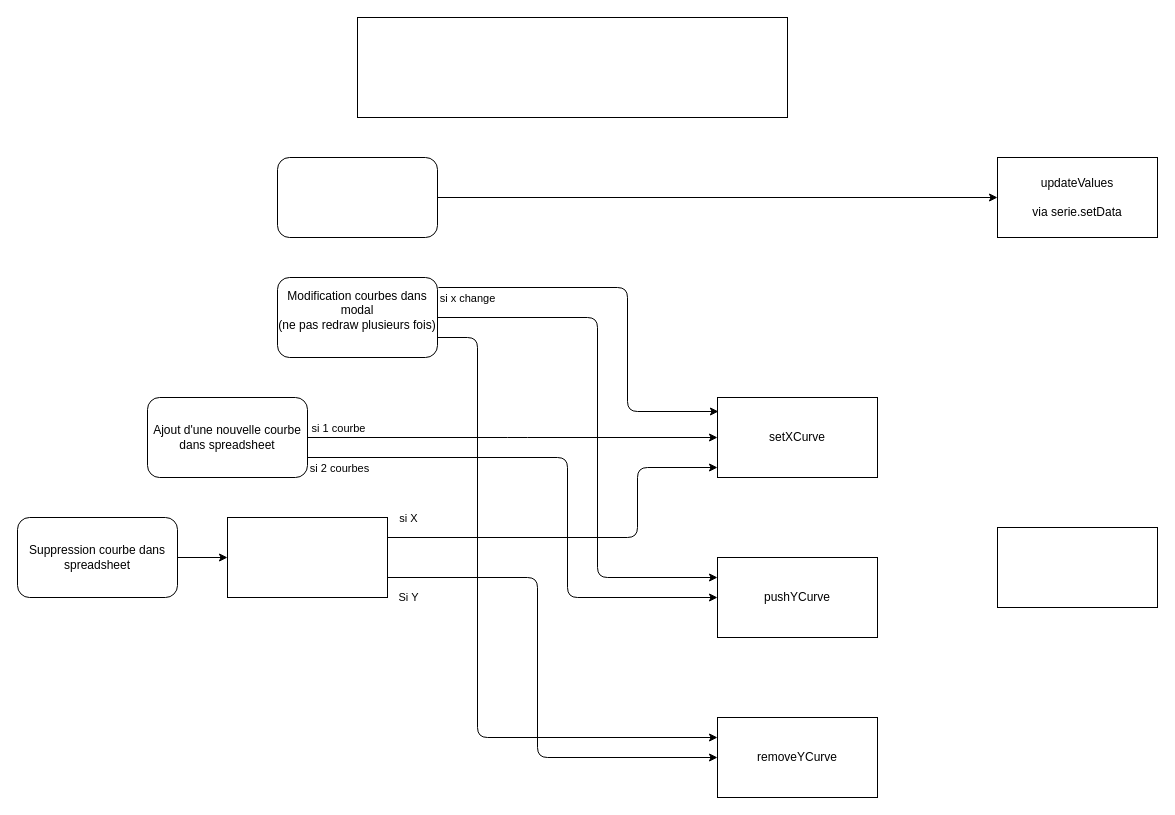
This 1175x815 diagram has some shape labels left out. The box of each missing label's shape, as (x1, y1, x2, y2) in pixels:
DONNER UNE ID AUX SERIES POUR UTILISER LA METHODE .get(id) de highcharts: (356, 16, 788, 118)
Modification de valeurs dans spreadsheet: (276, 156, 438, 238)
removeCurve: (226, 516, 388, 598)
updateCurves: (996, 526, 1158, 608)
